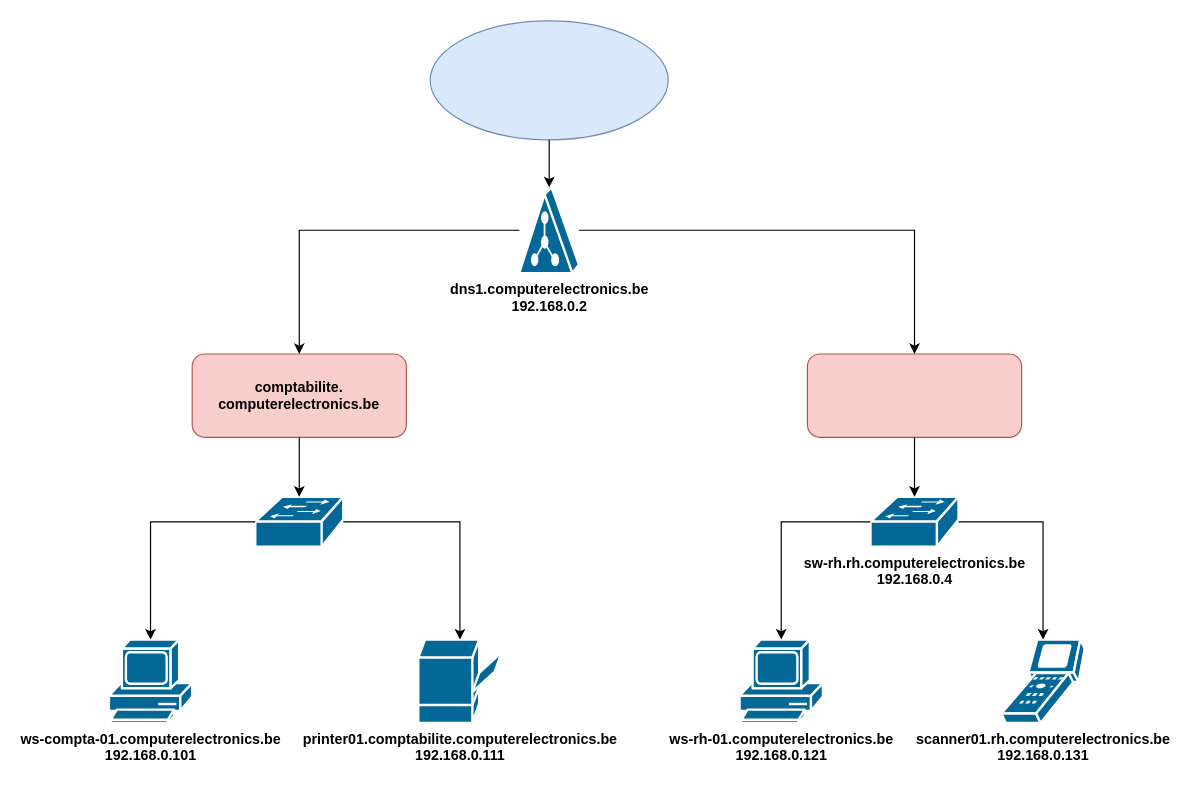
Some shapes in this 1190 by 787 pixel diagram are drawn without their labels. Each missing label, with the box of its shape:
computerelectronics.be (Domaine racine): (429, 20, 668, 140)
rh. computerelectronics.be: (806, 353, 1022, 437)
sw-compta.comptabilite.computerelectronics.be 192.168.0.1: (253, 495, 344, 547)
